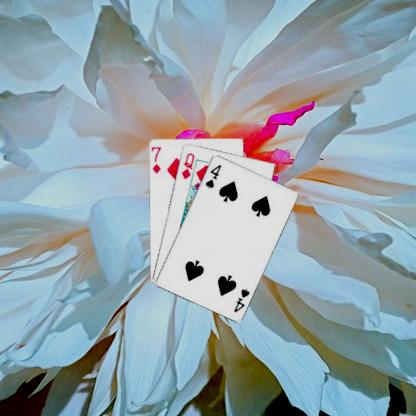4S: (202, 162, 223, 190), (231, 286, 251, 314)
7D: (150, 144, 162, 175)
QD: (178, 150, 196, 181)
